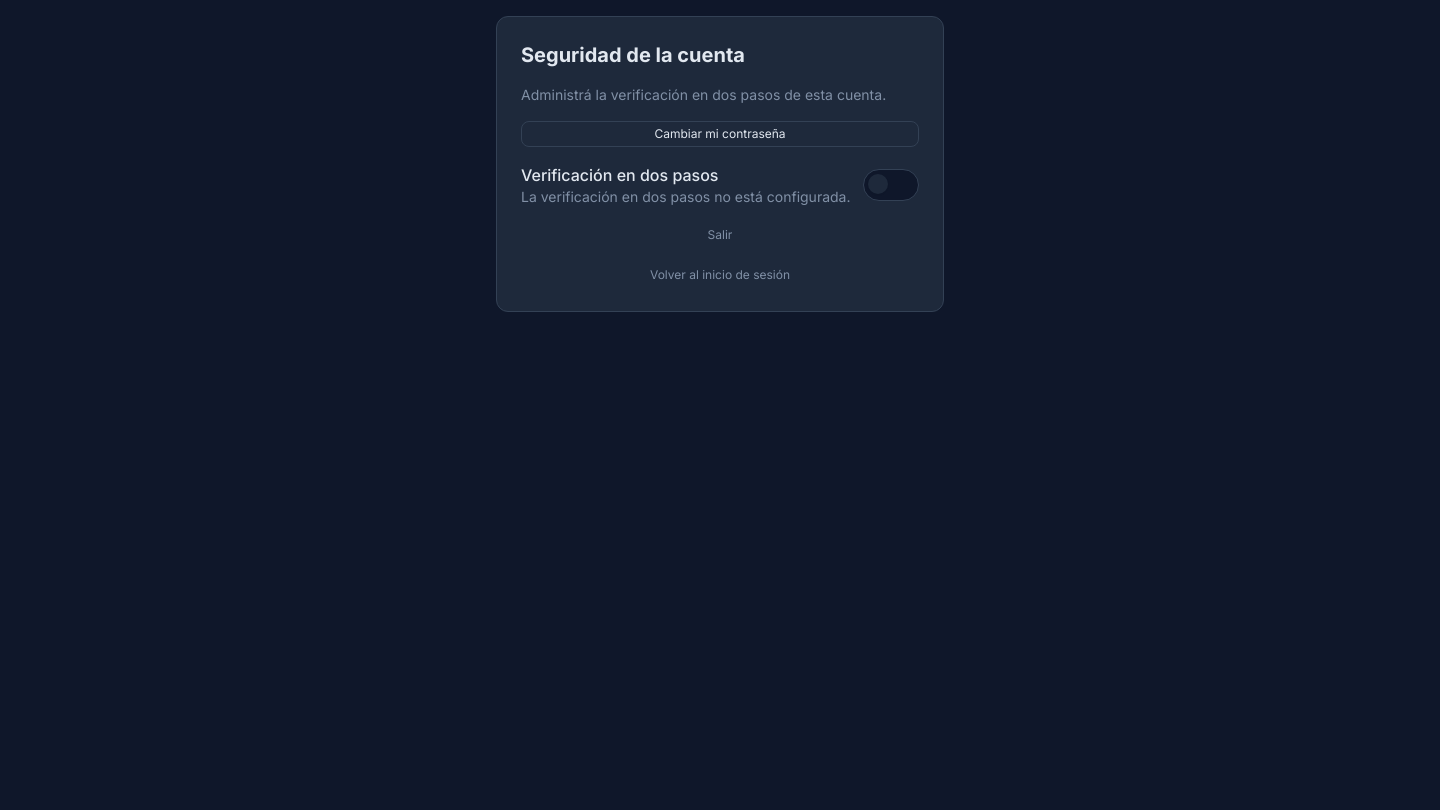
Scenario: Account security MFA › locks enrollment confirmation after an ambiguous network result
Step 1. Click the switch named "Verificación en dos pasos" → (891, 185), box x1=863 y1=169 x2=919 y2=201
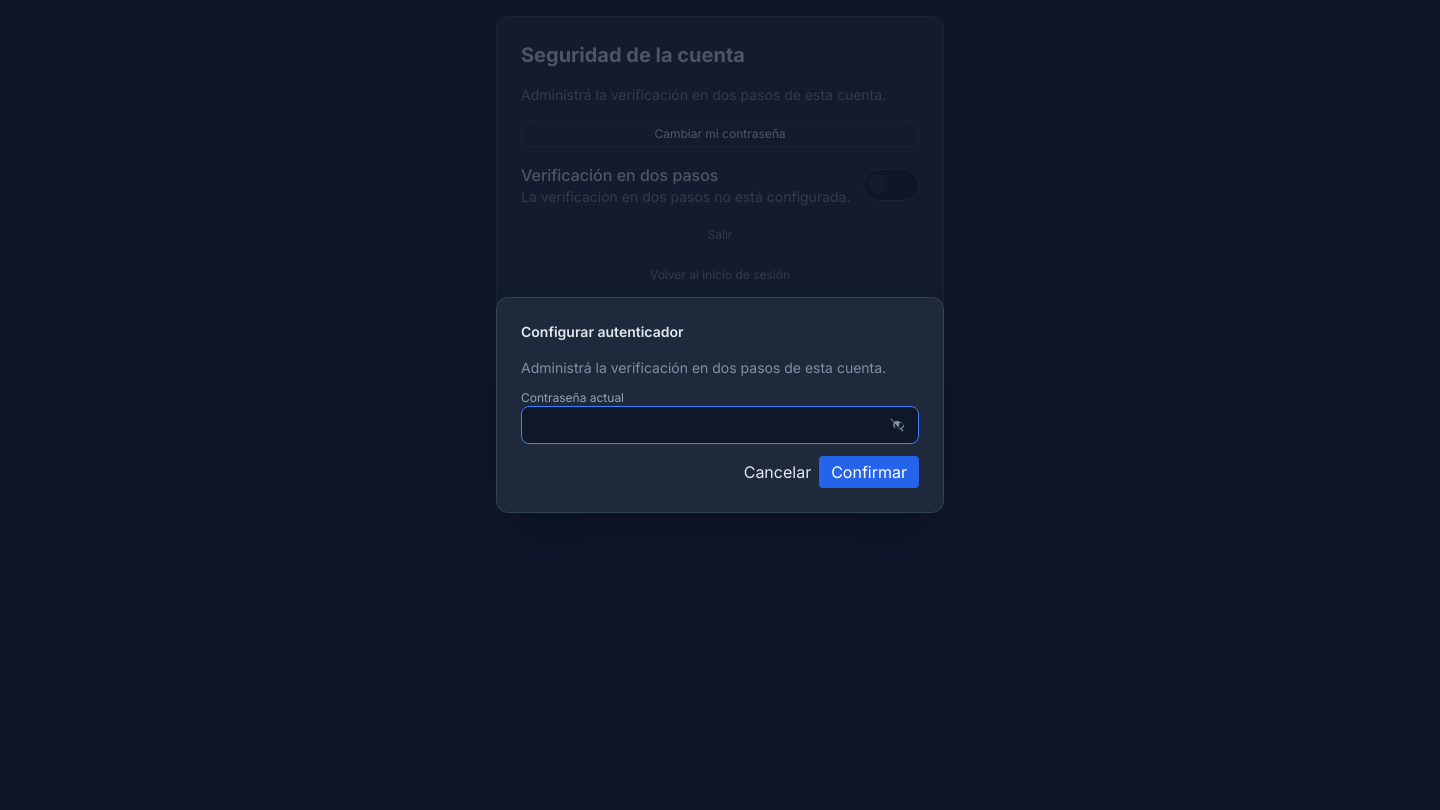
Step 2. Type "p" into the password field labelled "Contraseña actual" → (720, 425), box x1=521 y1=406 x2=919 y2=444
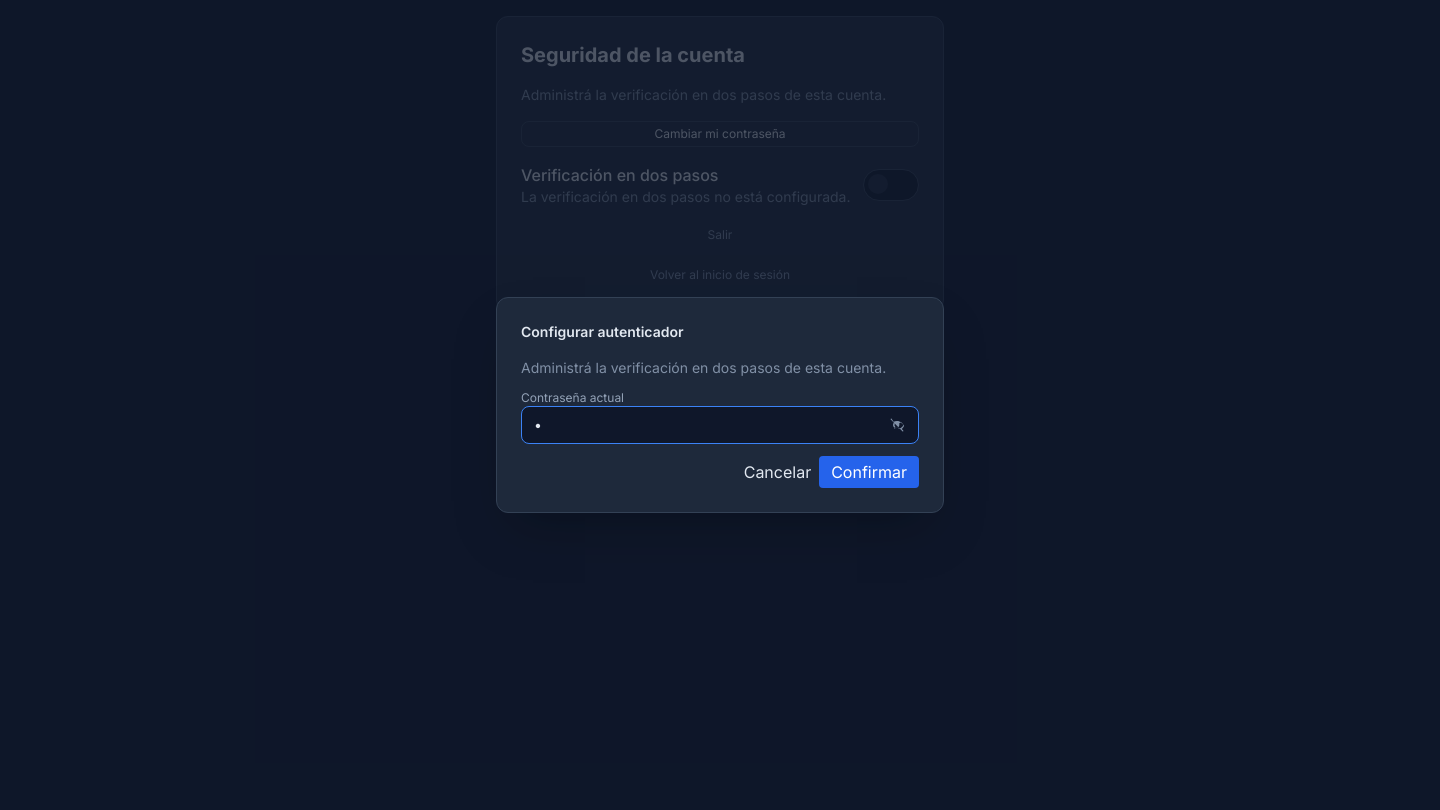
Step 3. Click the button "Confirmar" → (869, 472), box x1=819 y1=456 x2=919 y2=488
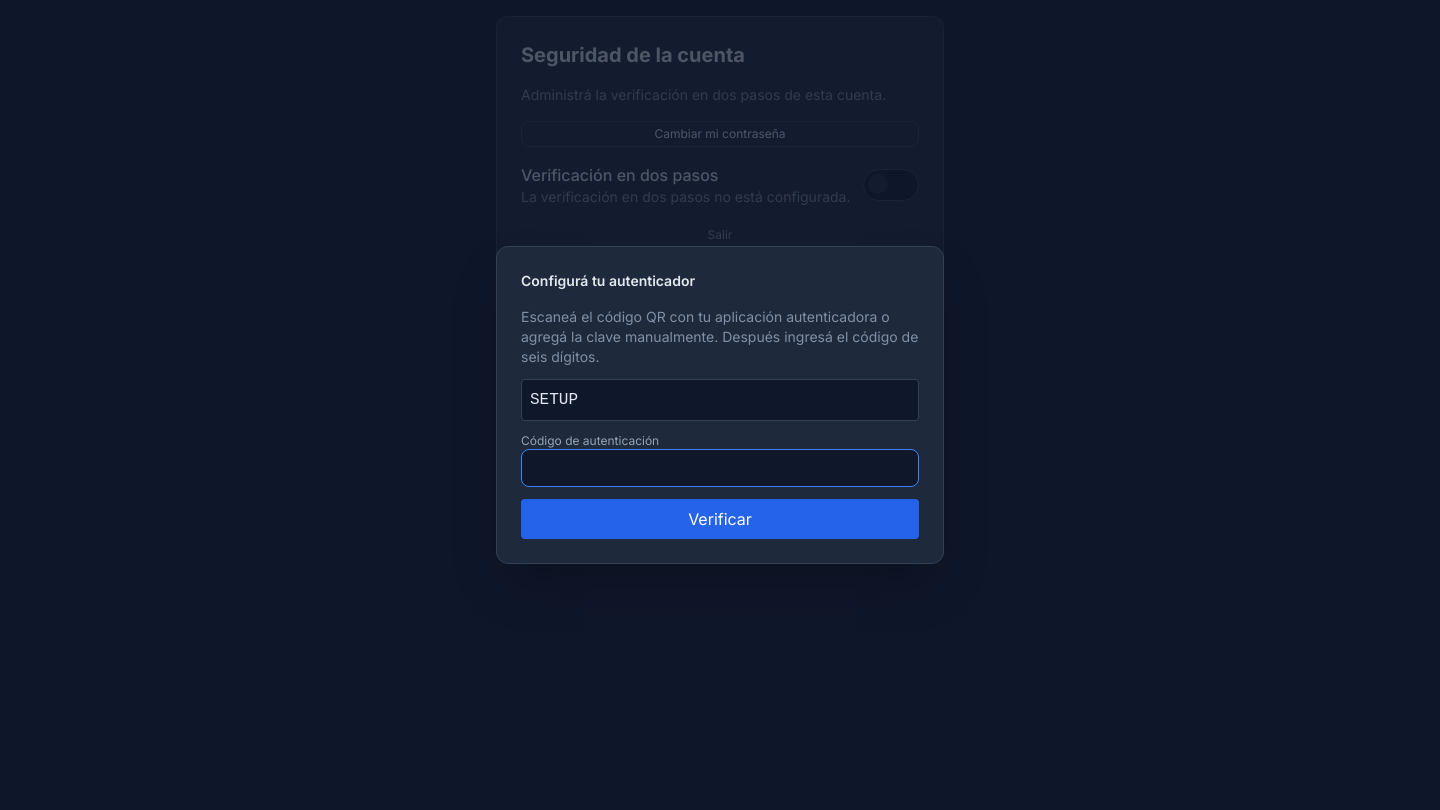
expect the text "SETUP" is shown: met, box x1=521 y1=379 x2=919 y2=421
Step 4. Type "123456" into the field labelled "Código de autenticación" → (720, 468), box x1=521 y1=449 x2=919 y2=487
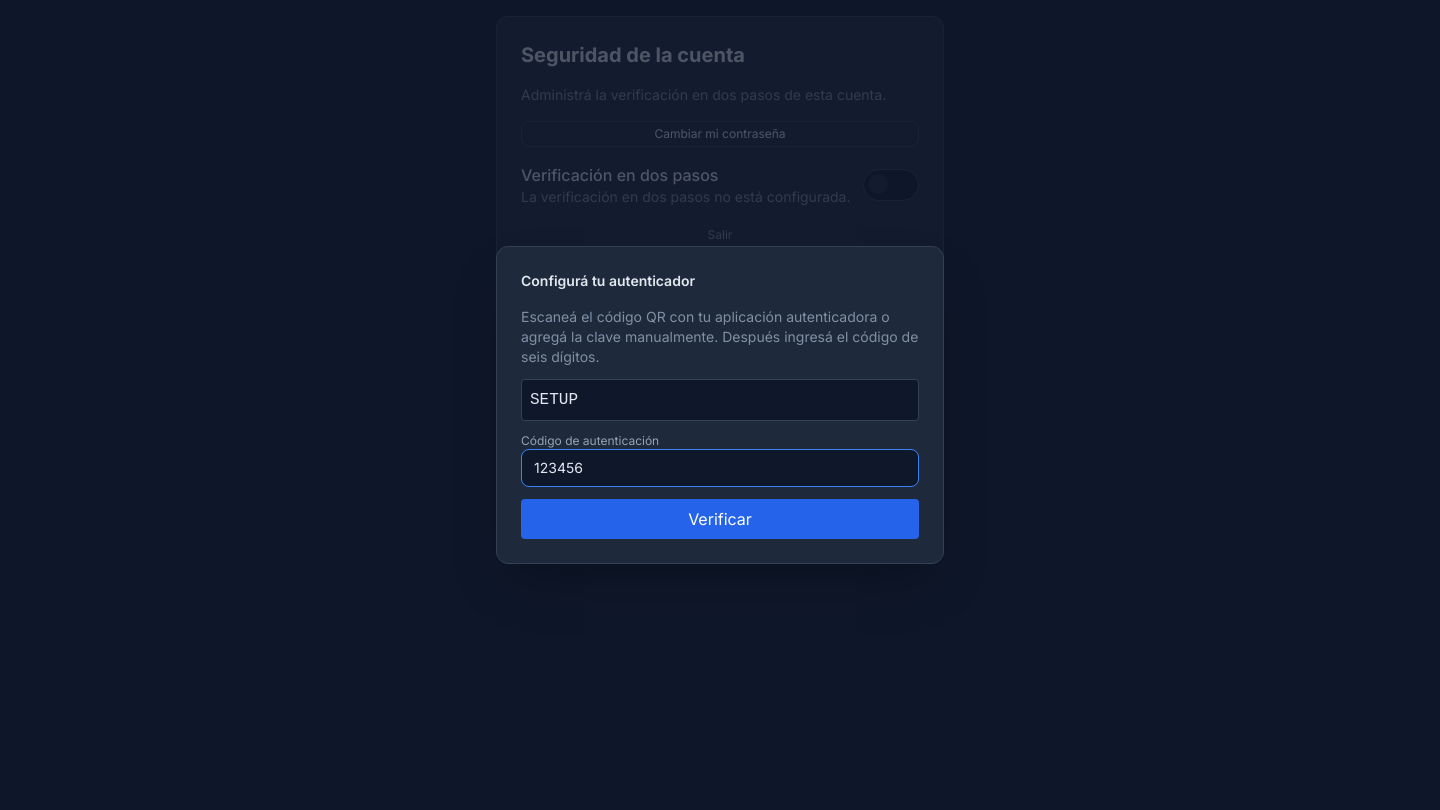
Step 5. Click the button "Verificar" → (720, 519), box x1=521 y1=499 x2=919 y2=539
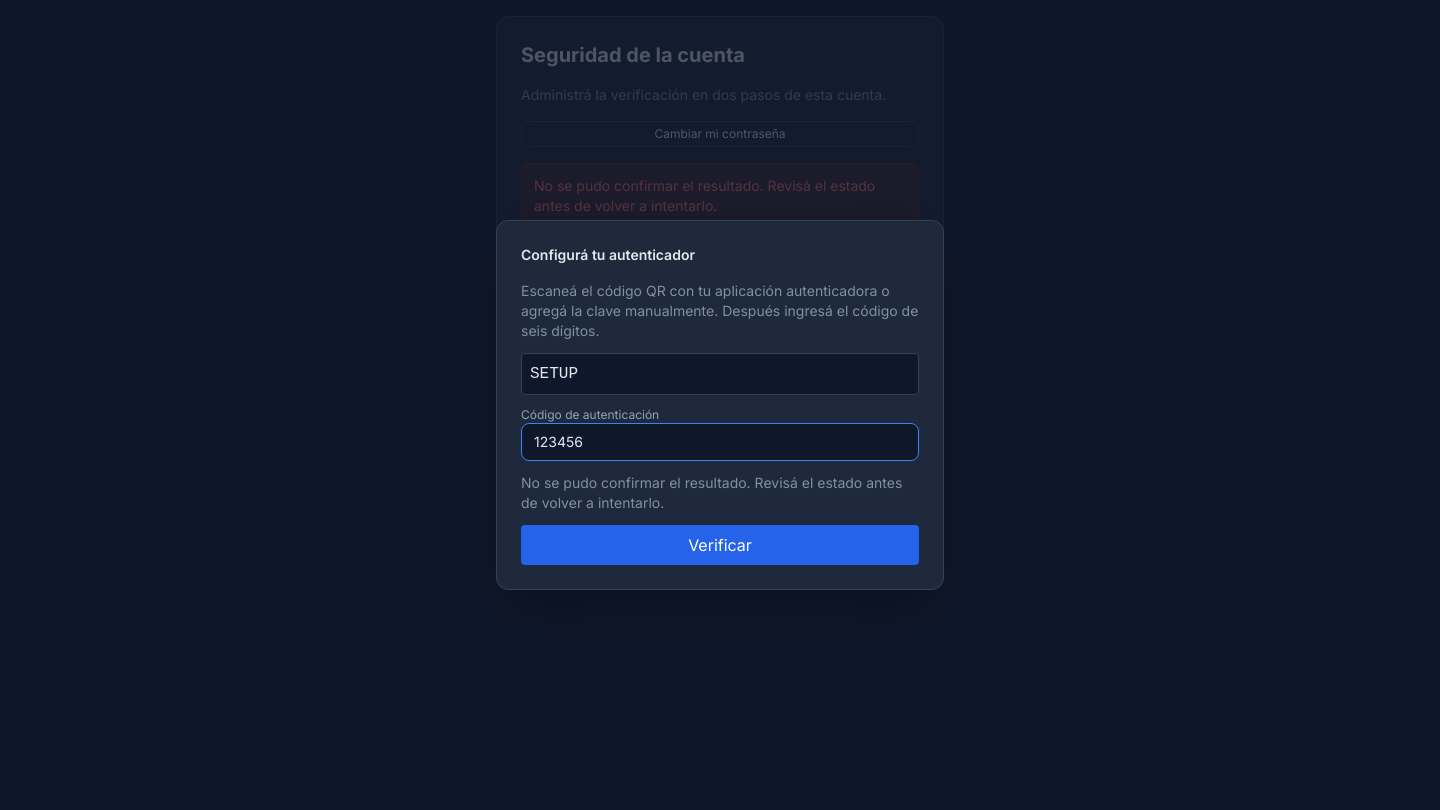
expect the button "Verificar" is disabled: met, box x1=521 y1=525 x2=919 y2=565
